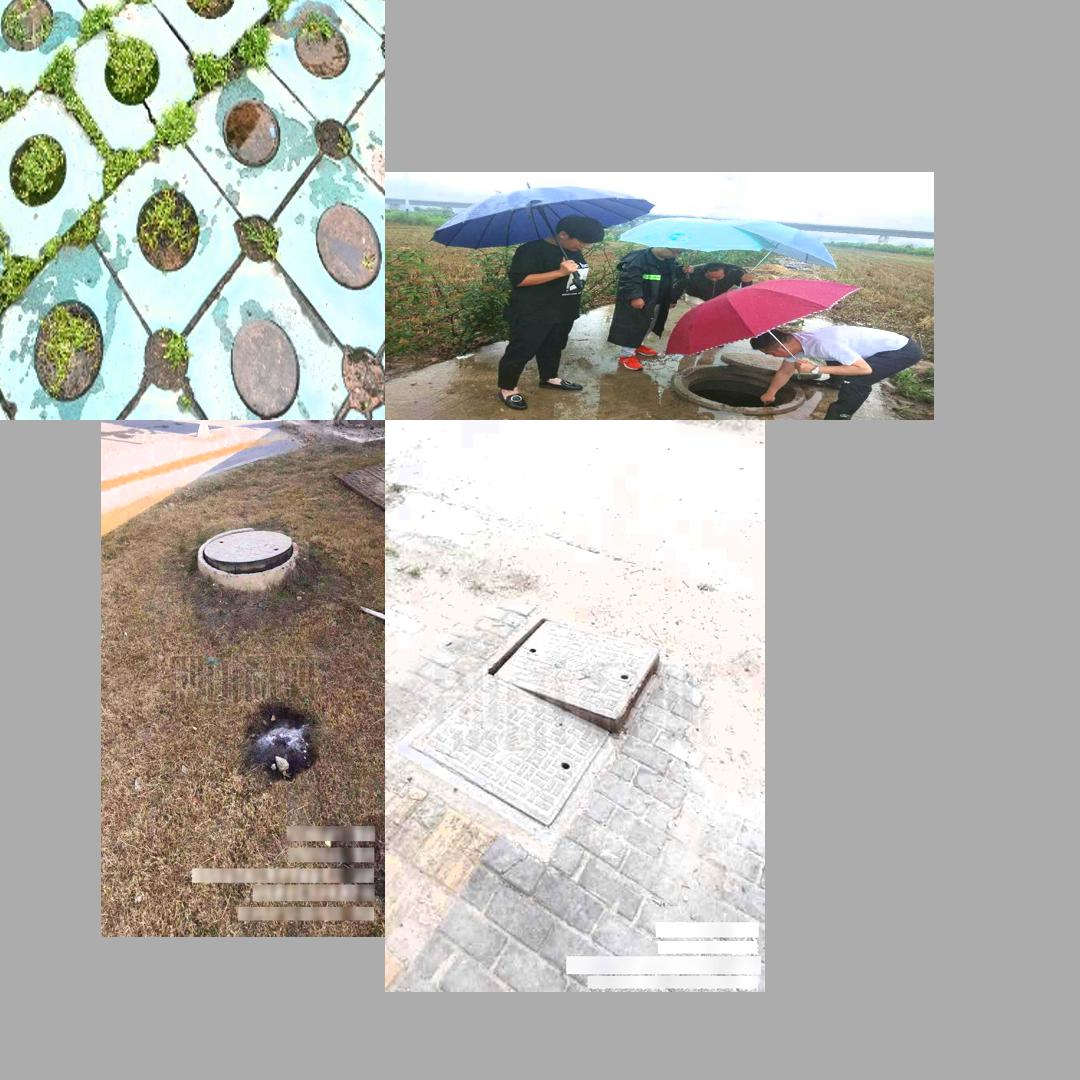uncovered: (396, 612, 666, 837), (659, 343, 831, 414), (198, 527, 297, 581)
